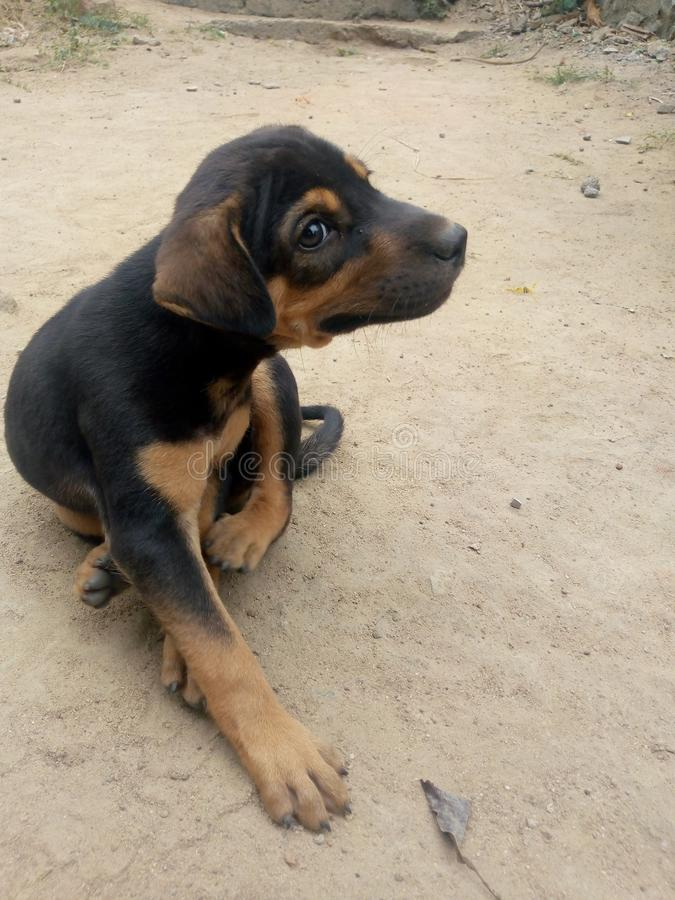nontarget: (6, 76, 470, 862)
